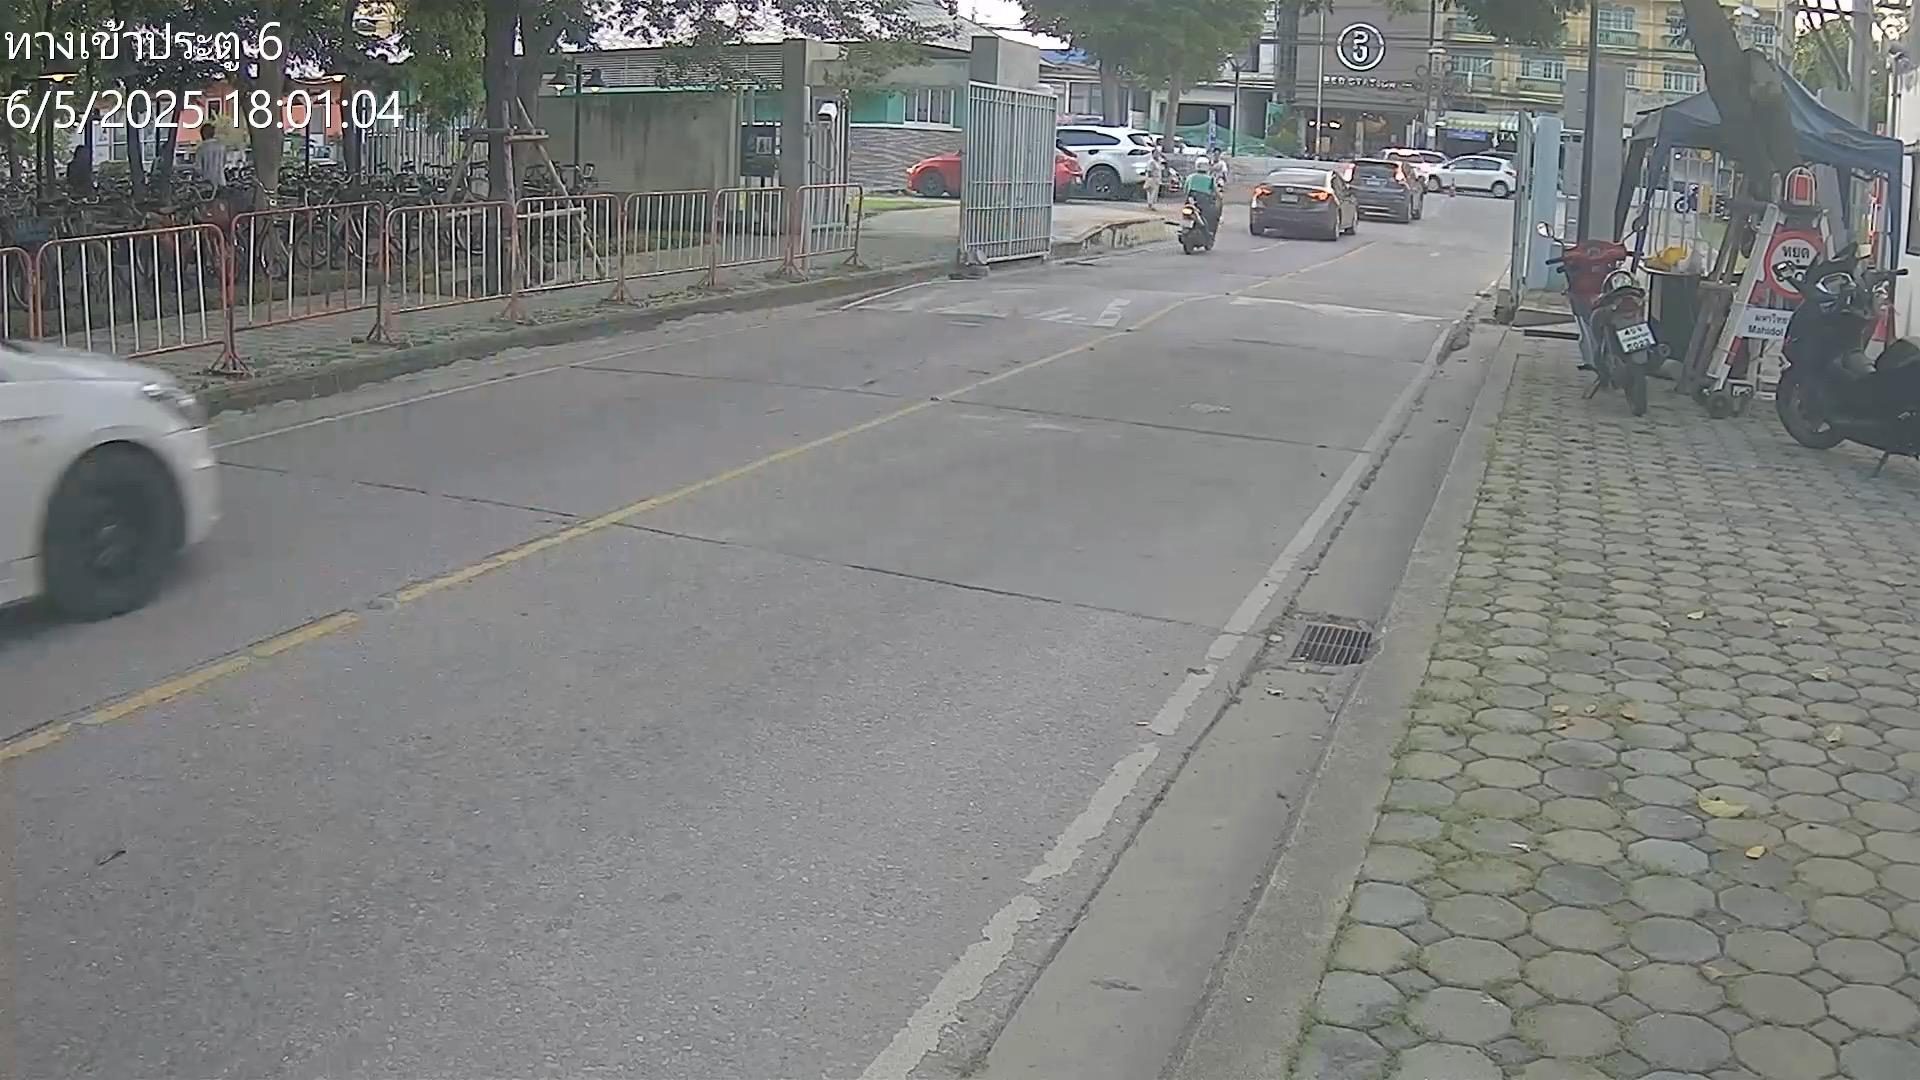With-Helmet: (1196, 156, 1211, 173)
